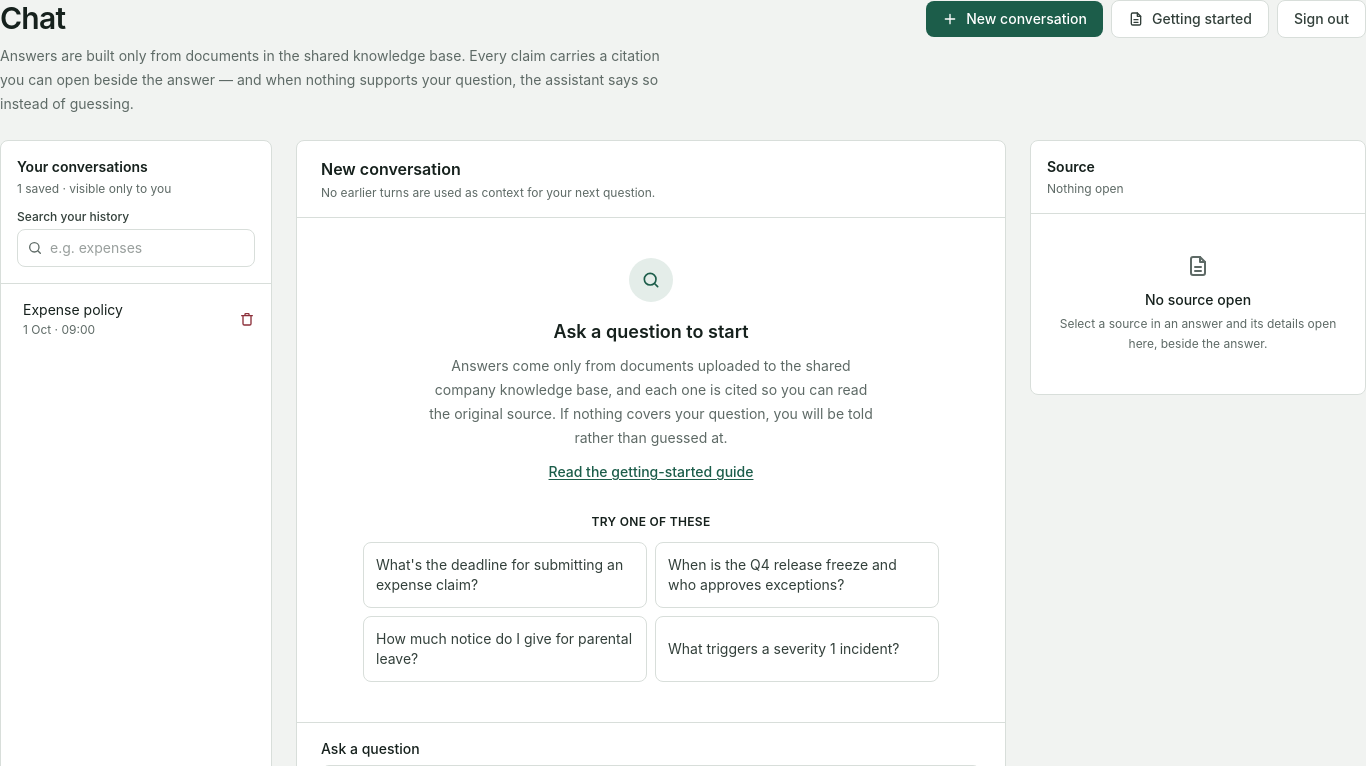
it: Chat screen › surfaces an error and keeps the conversation when the delete request fails
Expected: the text "Expense policy" is shown, [23,301,123,318]
Click the button named "Delete conversation: Expense policy" at {"x": 247, "y": 319}, box [231,292,263,346]
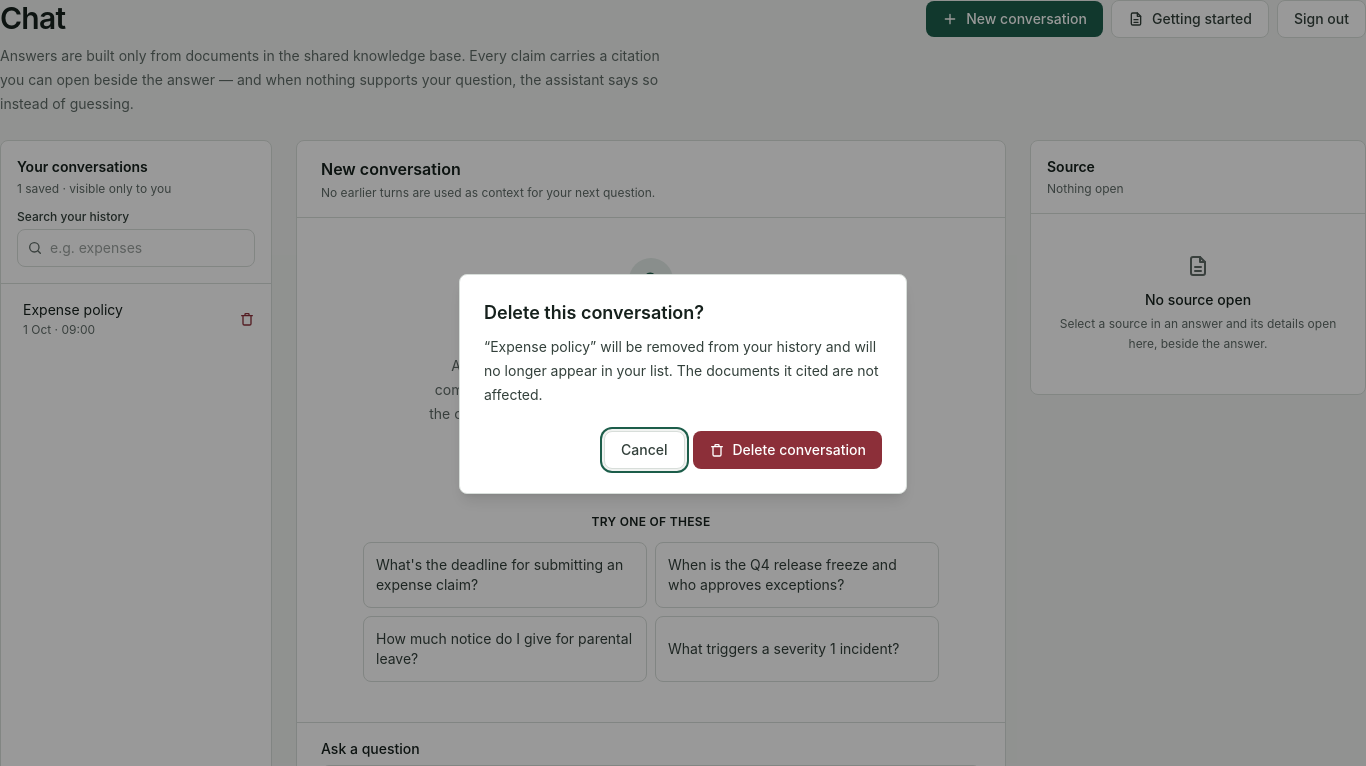
Click the button "Delete conversation" at {"x": 787, "y": 450}, box [692,431,882,469]
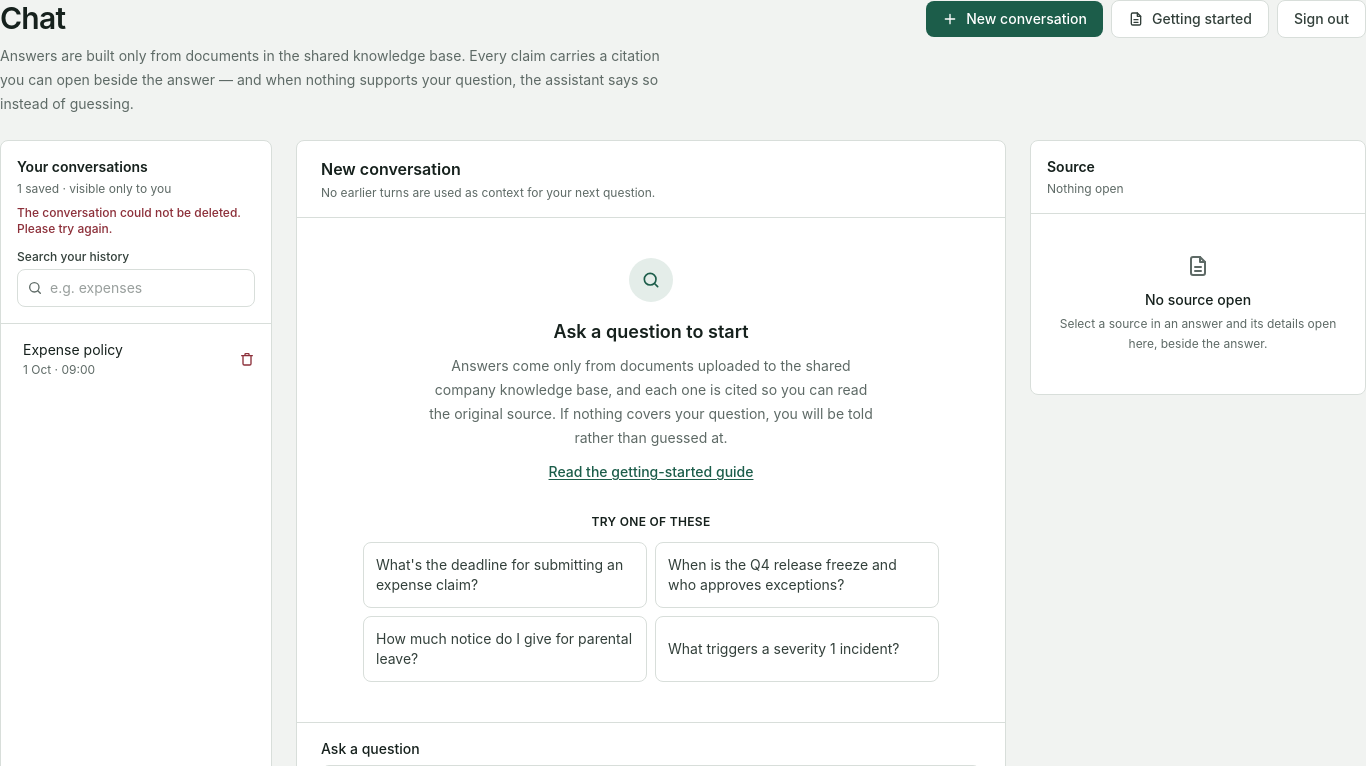
Expected: the text "Expense policy" is shown, [23,341,123,358]
Expected: the message shows "could not be deleted", [17,205,241,236]
